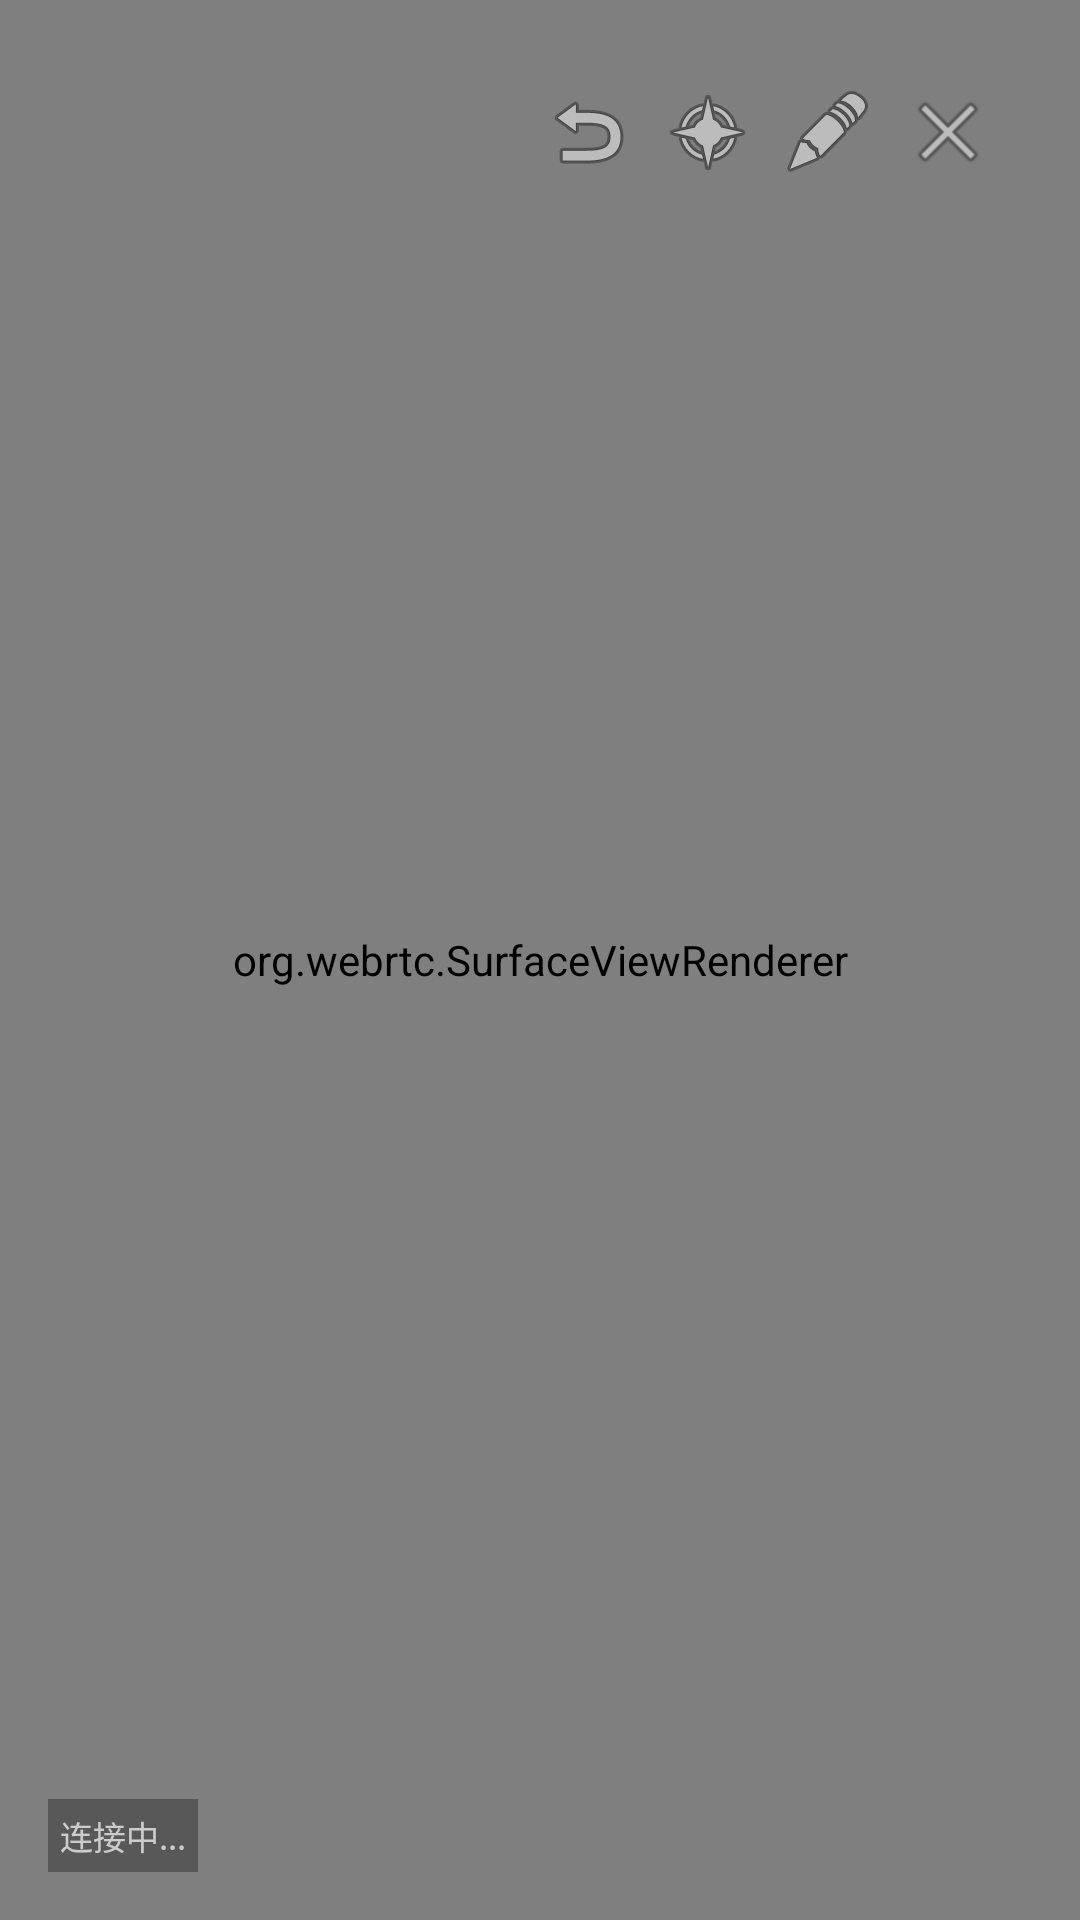

Icon click points for this 1080px x 1920px phone screenshot, format point (x, y):
Back: point (589, 133)
Disconnect: point (948, 132)
